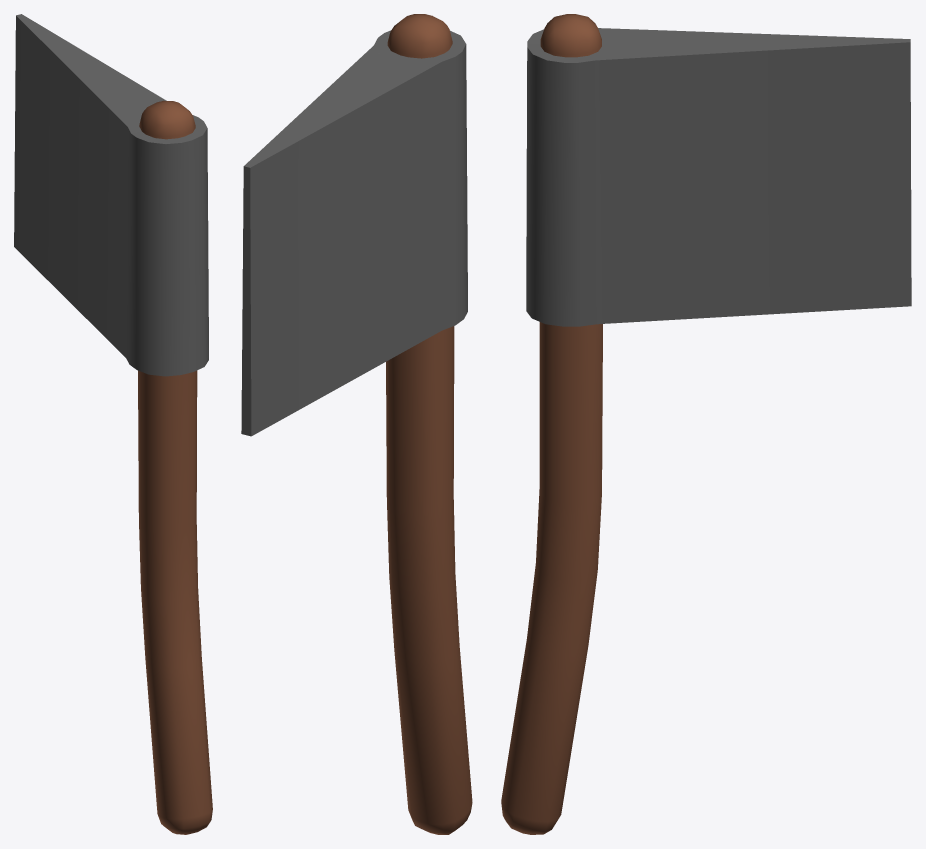
Rendered from Tool9.fbx.
3 views of the same model, side by side, from view 1: azimuth 30°, elevation 25°; view 2: azimuth 150°, elevation 25°; view 3: azimuth 270°, elevation 25° (orthographic). The views are drawn at different scales.
Parts seen in each view (by area): view 1: Cube.058; view 2: Cube.058; view 3: Cube.058.
Part boxes in pixels (left/top/right/bottom): Cube.058: left=14, top=14, right=212, bottom=834; Cube.058: left=241, top=14, right=472, bottom=834; Cube.058: left=501, top=14, right=911, bottom=834.
Size of the model in its own units: 0.1122 by 0.5102 by 1.12.
